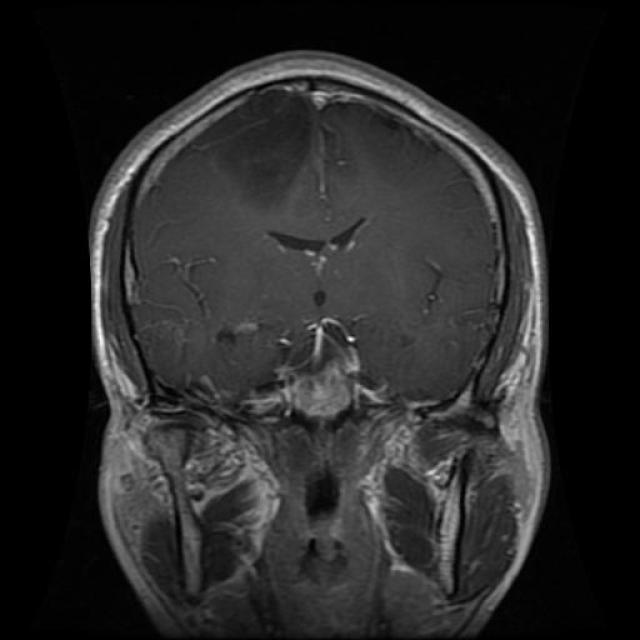glioma: (274, 326, 365, 426)
